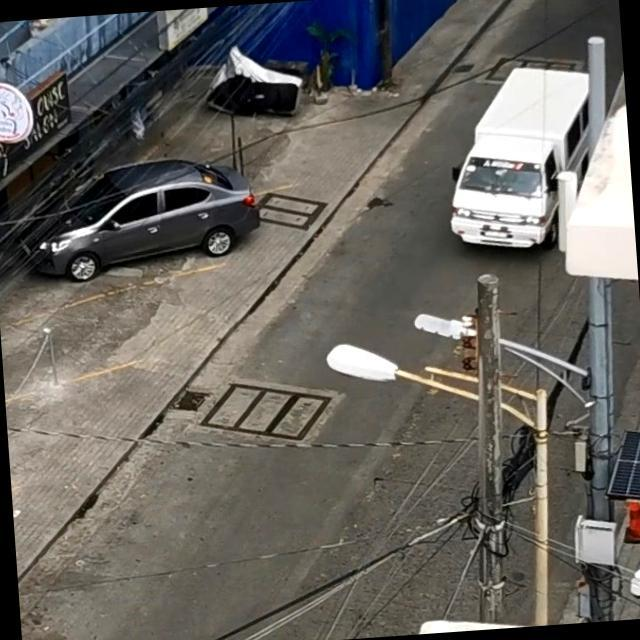Car: (440, 60, 600, 254), (18, 154, 255, 282)
